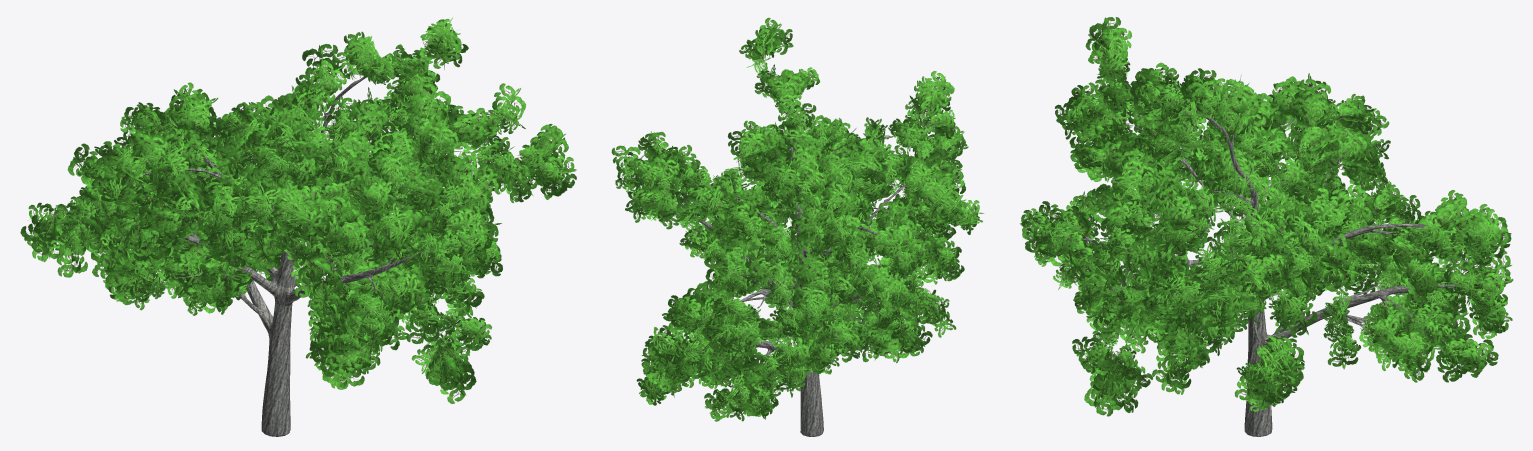
3 views of the same model, side by side, from view 1: azimuth 30°, elevation 25°; view 2: azimuth 150°, elevation 25°; view 3: azimuth 270°, elevation 25° (orthographic). The views are drawn at different scales.
Parts seen in each view (by area): view 1: Leaves Green, Tree; view 2: Leaves Green, Tree; view 3: Leaves Green, Tree.
Part boxes in pixels (bbox=[...]): Leaves Green: bbox=[20, 17, 576, 403]; Tree: bbox=[142, 75, 471, 436]; Leaves Green: bbox=[611, 17, 983, 421]; Tree: bbox=[676, 115, 905, 436]; Leaves Green: bbox=[1020, 17, 1513, 416]; Tree: bbox=[1078, 109, 1458, 436].
Bounding box in the file's own units: 102 × 92.87 × 102.
2 materials, 2 textured.
